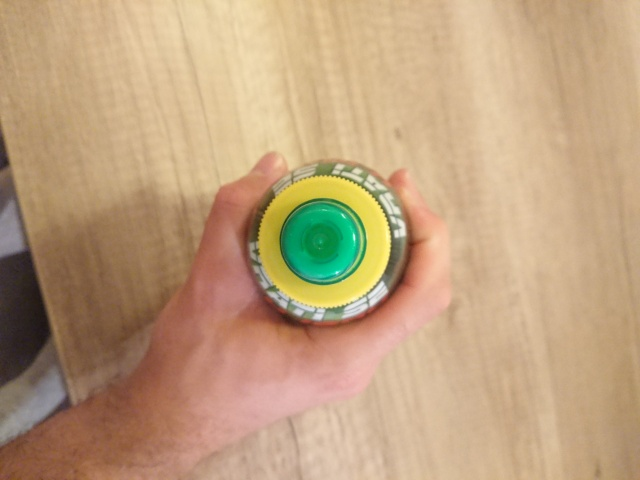Vindi Iso Sport Lemon-Grapefruit 500mL: (240, 154, 416, 332)
